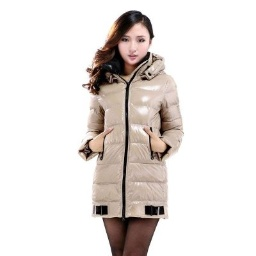face: (84, 5, 156, 93)
